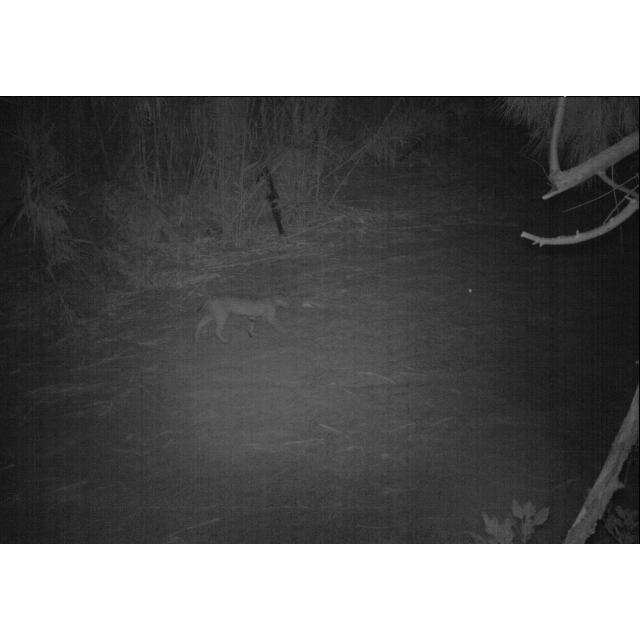animals: (190, 288, 294, 346)
